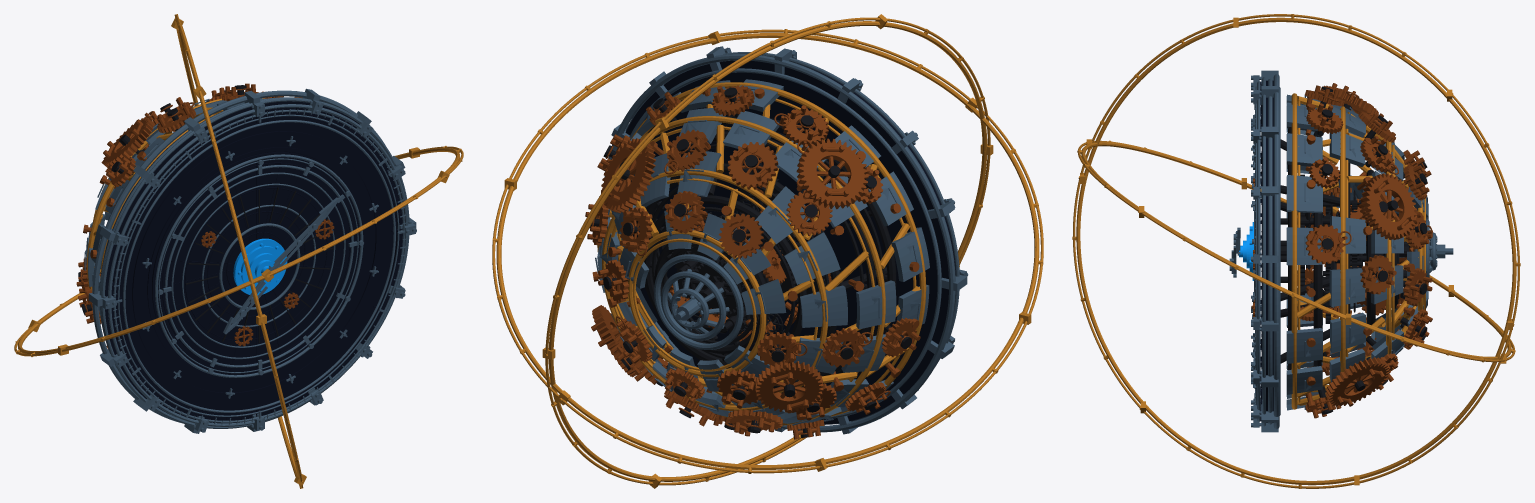
The model's file is clock.obj.
3 views of the same model, side by side, from view 1: azimuth 30°, elevation 25°; view 2: azimuth 150°, elevation 25°; view 3: azimuth 270°, elevation 25° (orthographic). The views are drawn at different scales.
Parts seen in each view (by area): view 1: RELOJ_|_disco_completo_plano.004, BORDE_|_blindaje,_abrazaderas_y_remaches.004, ORBITAS_|_dos_aros_dobles_cruzados_con_abrazaderas.004, RELOJ_|_minutos_grabados_y_cartografia_radial.004, V9_|_bisel_00, V9_|_bisel_03, V9_|_bisel_04, V9_|_bisel_01, ENGRANAJES_|_grandes_y_secundarios_abiertos.001, RELOJERIA_|_puentes,_volantes,_bulones_y_muelles.001, V9_|_bisel_02, V9_|_bisel_06 (+10 smaller); view 2: CARCASA_|_paneles_curvos_separados_por_ventanas_mecanicas.001, ENGRANAJES_|_grandes_y_secundarios_abiertos.001, ORBITAS_|_dos_aros_dobles_cruzados_con_abrazaderas.004, CHASIS_|_aros_de_carga_y_puentes_cortos.001, RELOJ_|_disco_completo_plano.004, BORDE_|_blindaje,_abrazaderas_y_remaches.004, RELOJERIA_|_puentes,_volantes,_bulones_y_muelles.001, INTERIOR_|_bastidores_anulares_y_arboles_de_transmision, REMATE_|_volante_central_y_eje_inferior.001, TRANSMISION_|_ejes,_cubos_y_acoplamientos.001, INTERIOR_|_cuatro_niveles_de_trenes_dentados, INTERIOR_|_cajas_de_engranajes_radiales (+3 smaller); view 3: ORBITAS_|_dos_aros_dobles_cruzados_con_abrazaderas.004, CARCASA_|_paneles_curvos_separados_por_ventanas_mecanicas.001, ENGRANAJES_|_grandes_y_secundarios_abiertos.001, CHASIS_|_aros_de_carga_y_puentes_cortos.001, BORDE_|_blindaje,_abrazaderas_y_remaches.004, RELOJERIA_|_puentes,_volantes,_bulones_y_muelles.001, INTERIOR_|_bastidores_anulares_y_arboles_de_transmision, TRANSMISION_|_ejes,_cubos_y_acoplamientos.001, RELOJ_|_disco_completo_plano.004, V9_|_bisel_00, INTERIOR_|_puentes_dobles_y_soportes_mecanicos, INTERIOR_|_cajas_de_engranajes_radiales (+2 smaller).
Boxes of the visible parts, x1=… form: RELOJ_|_disco_completo_plano.004: x1=100, y1=101, x2=402, y2=423; BORDE_|_blindaje,_abrazaderas_y_remaches.004: x1=88, y1=88, x2=416, y2=433; ORBITAS_|_dos_aros_dobles_cruzados_con_abrazaderas.004: x1=14, y1=14, x2=463, y2=488; RELOJ_|_minutos_grabados_y_cartografia_radial.004: x1=108, y1=103, x2=402, y2=423; V9_|_bisel_00: x1=107, y1=104, x2=408, y2=426; V9_|_bisel_03: x1=123, y1=120, x2=395, y2=412; V9_|_bisel_04: x1=155, y1=154, x2=363, y2=377; V9_|_bisel_01: x1=113, y1=109, x2=404, y2=422; ENGRANAJES_|_grandes_y_secundarios_abiertos.001: x1=82, y1=91, x2=274, y2=323; RELOJERIA_|_puentes,_volantes,_bulones_y_muelles.001: x1=76, y1=83, x2=302, y2=348; V9_|_bisel_02: x1=118, y1=114, x2=399, y2=416; V9_|_bisel_06: x1=164, y1=165, x2=353, y2=367; CARCASA_|_paneles_curvos_separados_por_ventanas_mecanicas.001: x1=595, y1=79, x2=929, y2=425; ENGRANAJES_|_grandes_y_secundarios_abiertos.001: x1=592, y1=85, x2=916, y2=430; ORBITAS_|_dos_aros_dobles_cruzados_con_abrazaderas.004: x1=492, y1=14, x2=1043, y2=488; CHASIS_|_aros_de_carga_y_puentes_cortos.001: x1=597, y1=82, x2=926, y2=425; RELOJ_|_disco_completo_plano.004: x1=625, y1=60, x2=955, y2=424; BORDE_|_blindaje,_abrazaderas_y_remaches.004: x1=599, y1=46, x2=967, y2=434; RELOJERIA_|_puentes,_volantes,_bulones_y_muelles.001: x1=585, y1=85, x2=920, y2=439; INTERIOR_|_bastidores_anulares_y_arboles_de_transmision: x1=636, y1=115, x2=896, y2=388; REMATE_|_volante_central_y_eje_inferior.001: x1=654, y1=254, x2=743, y2=349; TRANSMISION_|_ejes,_cubos_y_acoplamientos.001: x1=589, y1=87, x2=911, y2=437; INTERIOR_|_cuatro_niveles_de_trenes_dentados: x1=671, y1=163, x2=845, y2=344; INTERIOR_|_cajas_de_engranajes_radiales: x1=668, y1=184, x2=831, y2=341; ORBITAS_|_dos_aros_dobles_cruzados_con_abrazaderas.004: x1=1072, y1=14, x2=1520, y2=488; CARCASA_|_paneles_curvos_separados_por_ventanas_mecanicas.001: x1=1286, y1=94, x2=1428, y2=410; ENGRANAJES_|_grandes_y_secundarios_abiertos.001: x1=1305, y1=85, x2=1427, y2=411; CHASIS_|_aros_de_carga_y_puentes_cortos.001: x1=1291, y1=93, x2=1425, y2=409; BORDE_|_blindaje,_abrazaderas_y_remaches.004: x1=1259, y1=70, x2=1280, y2=432; RELOJERIA_|_puentes,_volantes,_bulones_y_muelles.001: x1=1305, y1=83, x2=1432, y2=418; INTERIOR_|_bastidores_anulares_y_arboles_de_transmision: x1=1280, y1=127, x2=1408, y2=369; TRANSMISION_|_ejes,_cubos_y_acoplamientos.001: x1=1317, y1=86, x2=1427, y2=414; RELOJ_|_disco_completo_plano.004: x1=1261, y1=80, x2=1273, y2=422; V9_|_bisel_00: x1=1257, y1=81, x2=1260, y2=421; INTERIOR_|_puentes_dobles_y_soportes_mecanicos: x1=1280, y1=139, x2=1385, y2=363; INTERIOR_|_cajas_de_engranajes_radiales: x1=1297, y1=186, x2=1378, y2=321.
Size of the model in its own units: 14 by 13.99 by 13.35.
